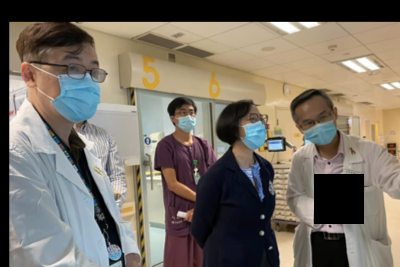with_mask: (36, 53, 102, 122), (297, 111, 338, 144), (240, 110, 268, 148), (174, 107, 198, 132)
